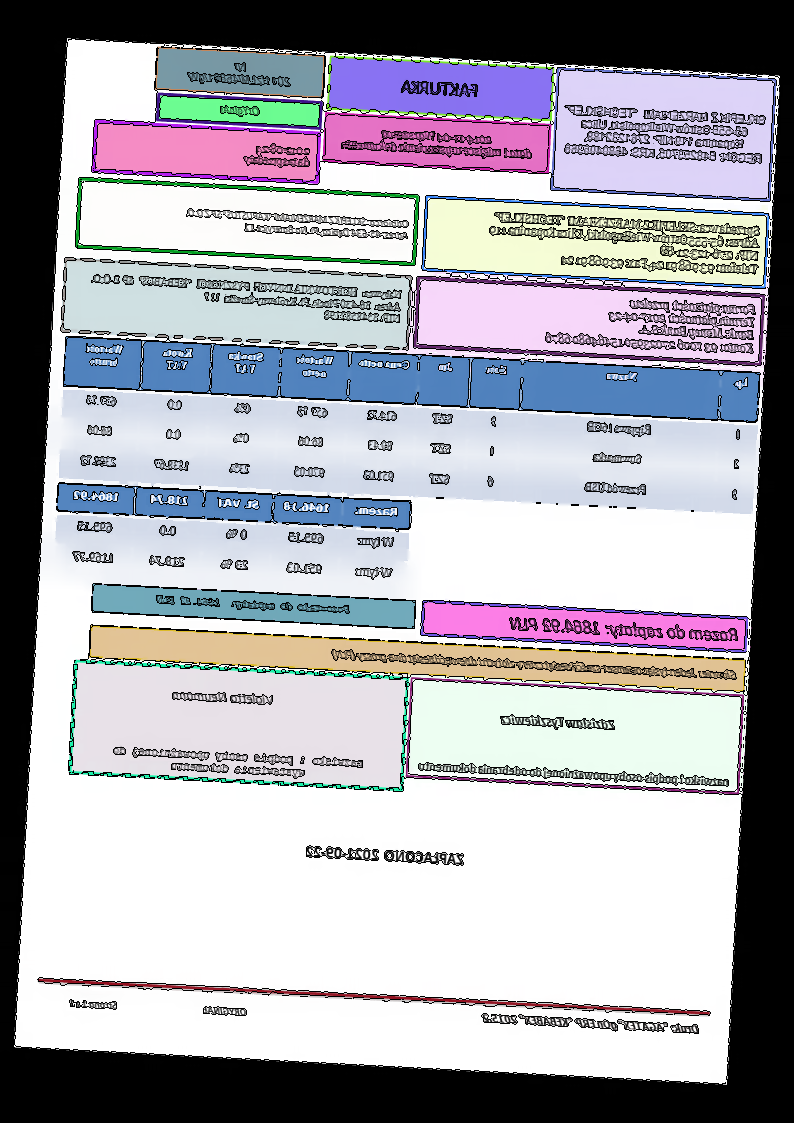Table: (58, 334, 763, 516), (53, 482, 414, 593)
TextBox: (485, 206, 764, 279), (88, 271, 406, 328), (330, 646, 740, 684), (542, 289, 759, 358), (562, 101, 769, 168), (107, 741, 367, 783), (416, 757, 734, 790), (185, 203, 412, 243), (508, 613, 743, 649), (338, 125, 536, 164), (478, 1008, 704, 1039), (154, 592, 355, 616), (65, 994, 252, 1019), (301, 842, 467, 868), (184, 55, 295, 91), (498, 708, 618, 734), (171, 685, 278, 709), (242, 139, 315, 173), (397, 77, 481, 101), (217, 102, 262, 120)
